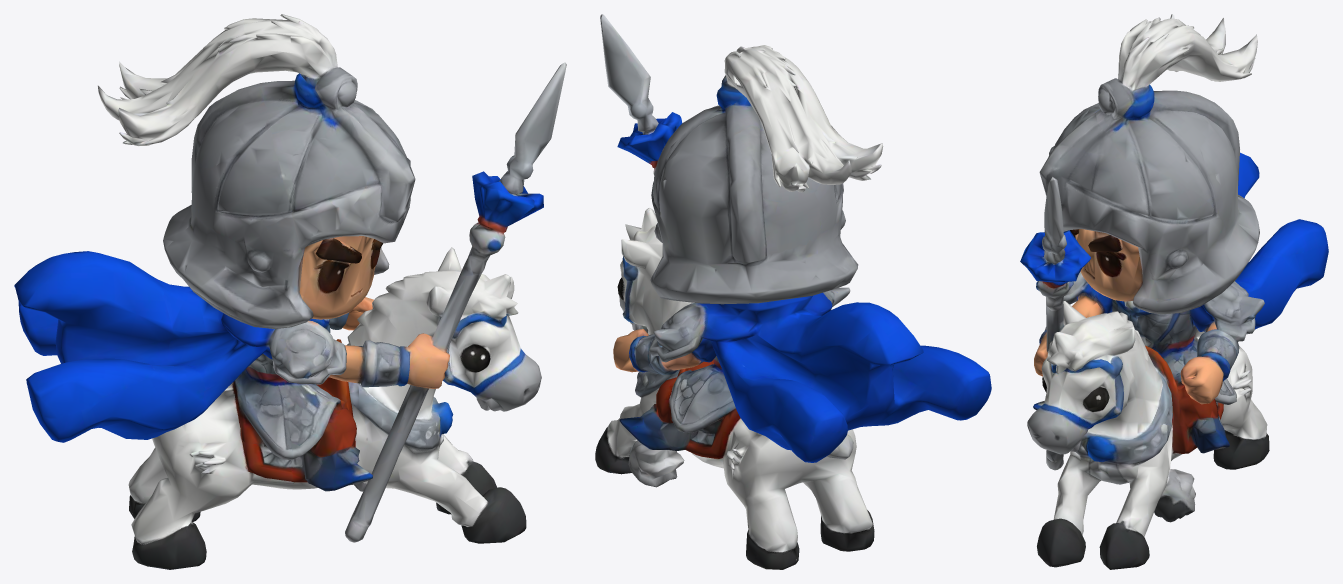
File: hero_zhaoyun.glb
The picture shows the model from 3 angles, left to right: view 1: azimuth 30°, elevation 25°; view 2: azimuth 150°, elevation 25°; view 3: azimuth 270°, elevation 25°; orthographic projection. The views are drawn at different scales.
Visible parts, largest first — view 1: tripo_node_18776e93-38fd-409a-b3f9-b28345090a59; view 2: tripo_node_18776e93-38fd-409a-b3f9-b28345090a59; view 3: tripo_node_18776e93-38fd-409a-b3f9-b28345090a59.
Boxes of the visible parts, x1,y1,x2,y2 form: tripo_node_18776e93-38fd-409a-b3f9-b28345090a59: (14, 14, 566, 569); tripo_node_18776e93-38fd-409a-b3f9-b28345090a59: (595, 14, 991, 569); tripo_node_18776e93-38fd-409a-b3f9-b28345090a59: (1020, 14, 1328, 569).
Size of the model in its own units: 0.9503 by 0.9785 by 0.5892.
Materials: 1 (1 with a texture image).
